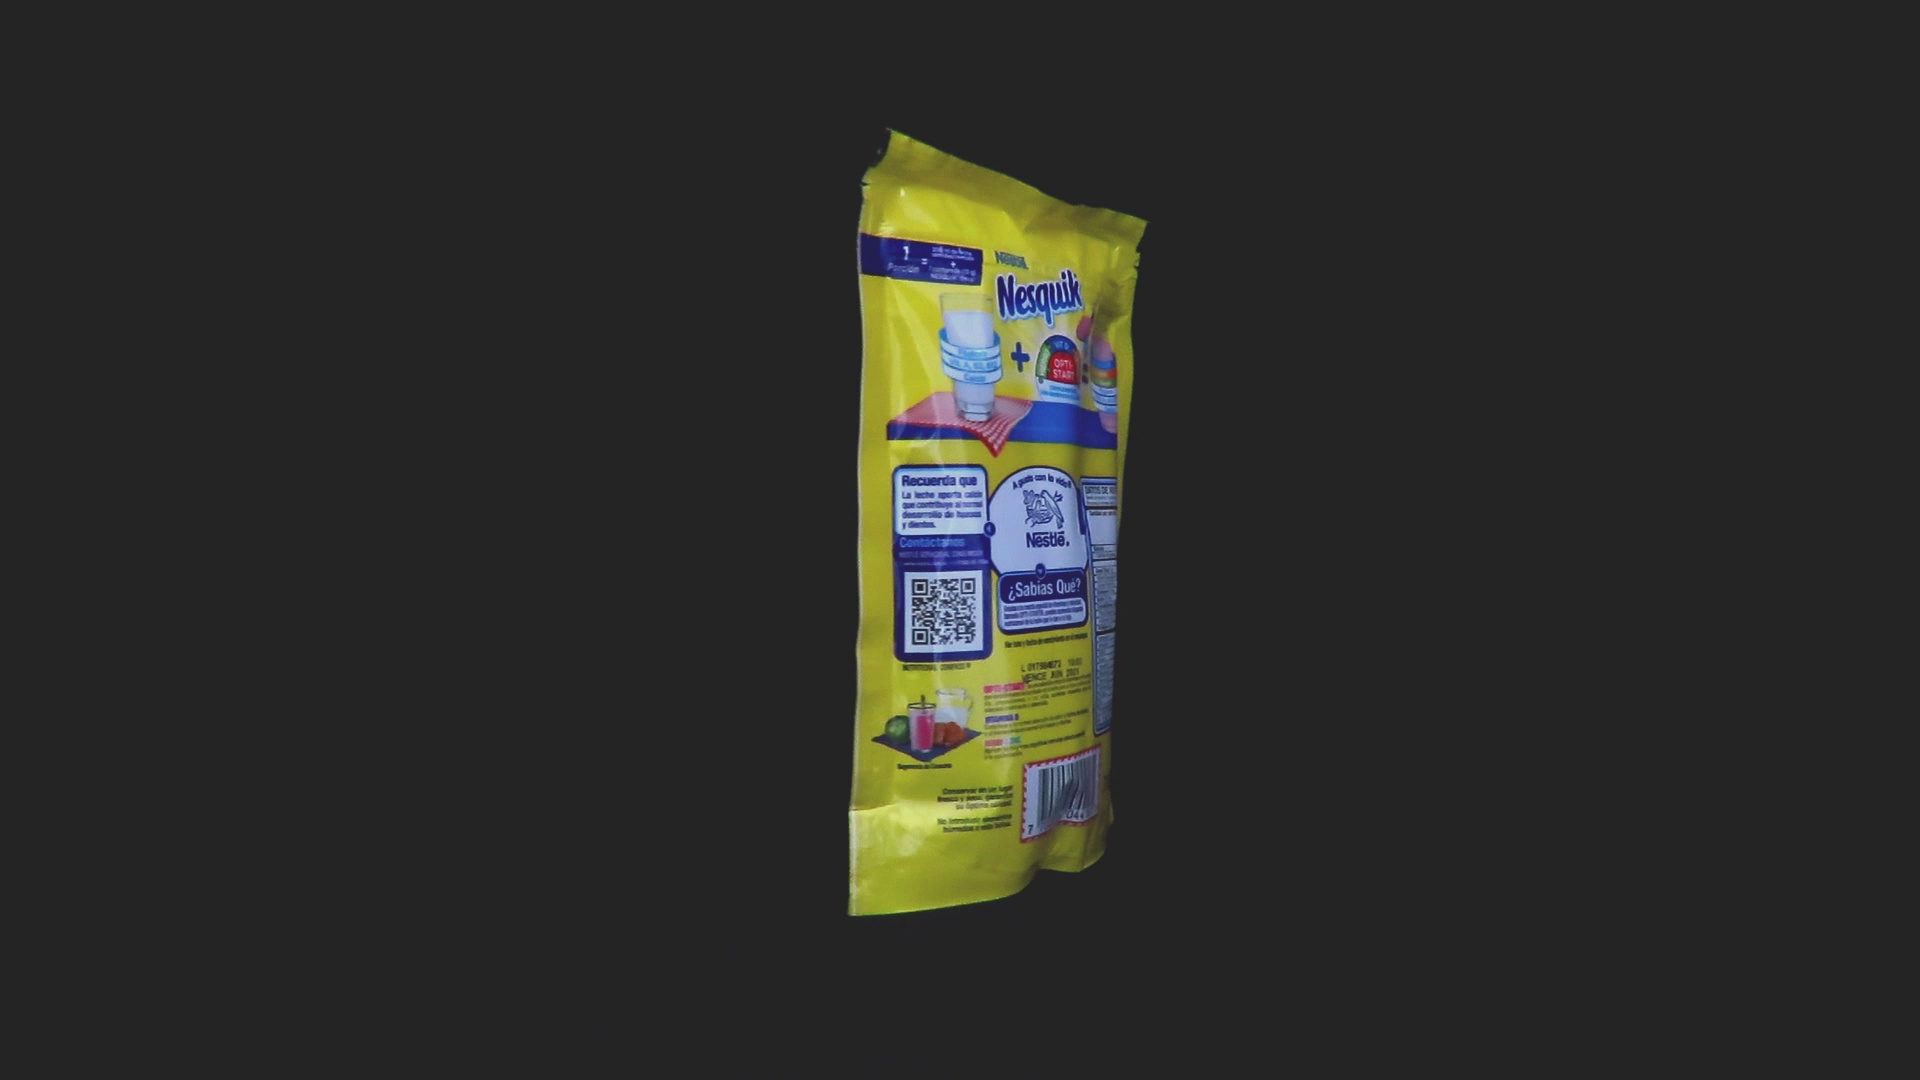COL0170305DYP20000: (843, 123, 1154, 922)
